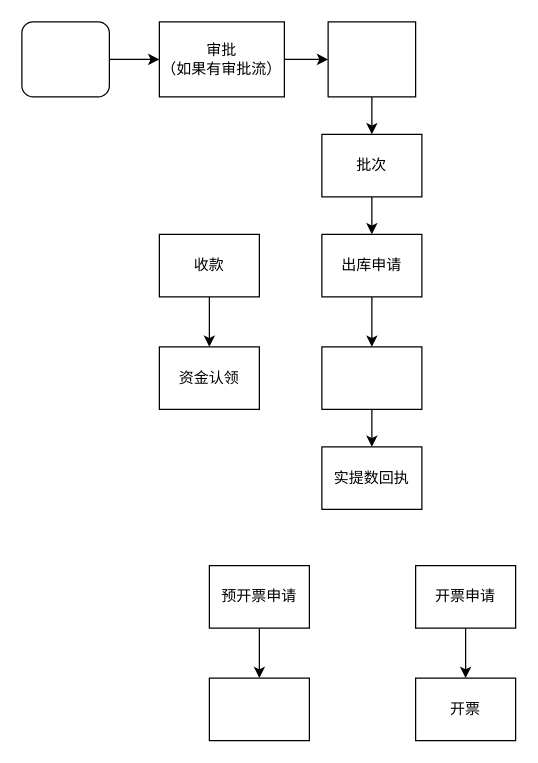
This 538x763 diagram has some shape labels left out. The shapes that lost their labels are listed below. From the top down, each one's centre as x and y in pixels, then its label:
At [65,59]: "销售合同 (内贸)".
At [371,59]: "双签".
At [371,377]: "出库".
At [258,709]: "预开票".
